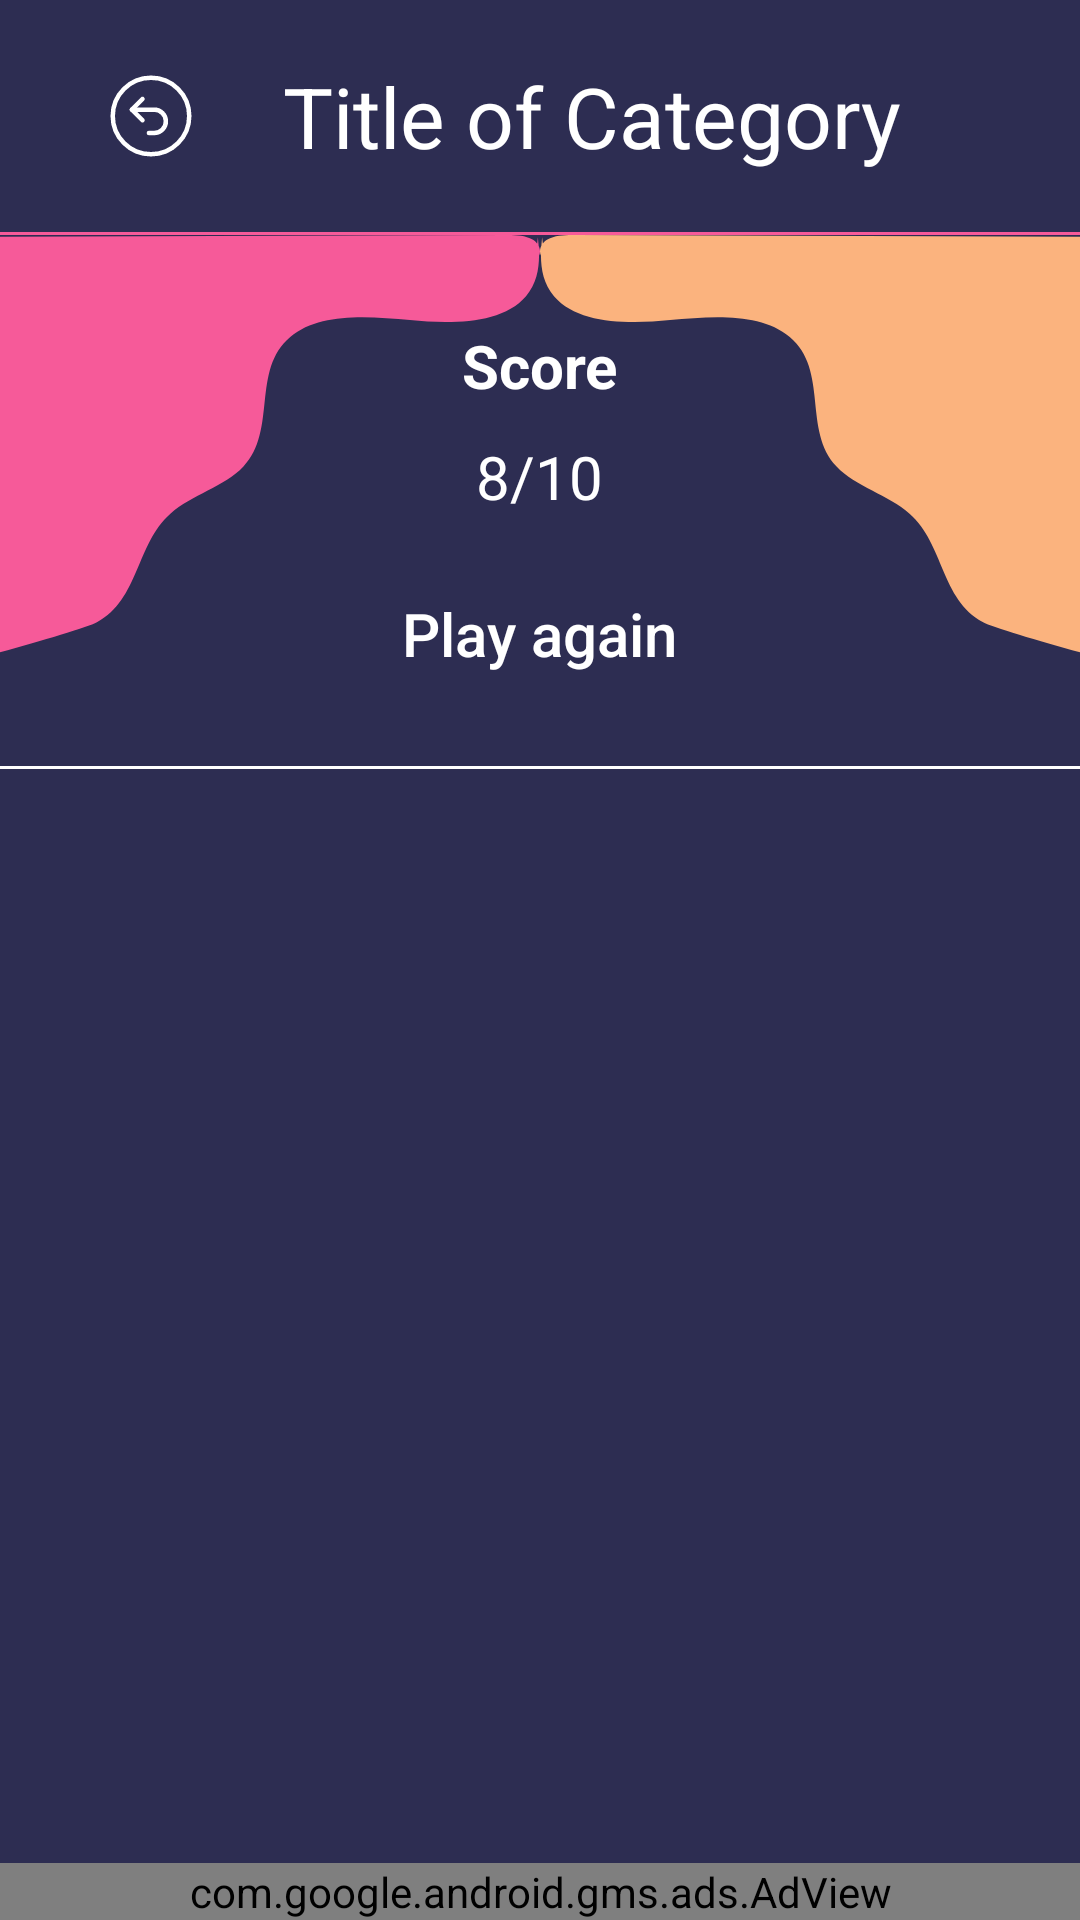

Icons on this 1080x1920 Android screen, each with its box as (x1,y1,x2,y2):
back: (110,75,192,157)
